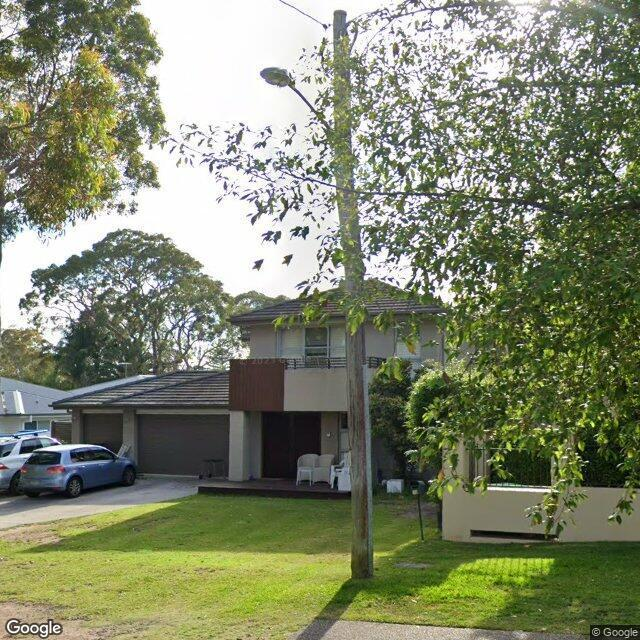streetlight: (260, 64, 334, 144)
timber-pole: (334, 9, 372, 581)
